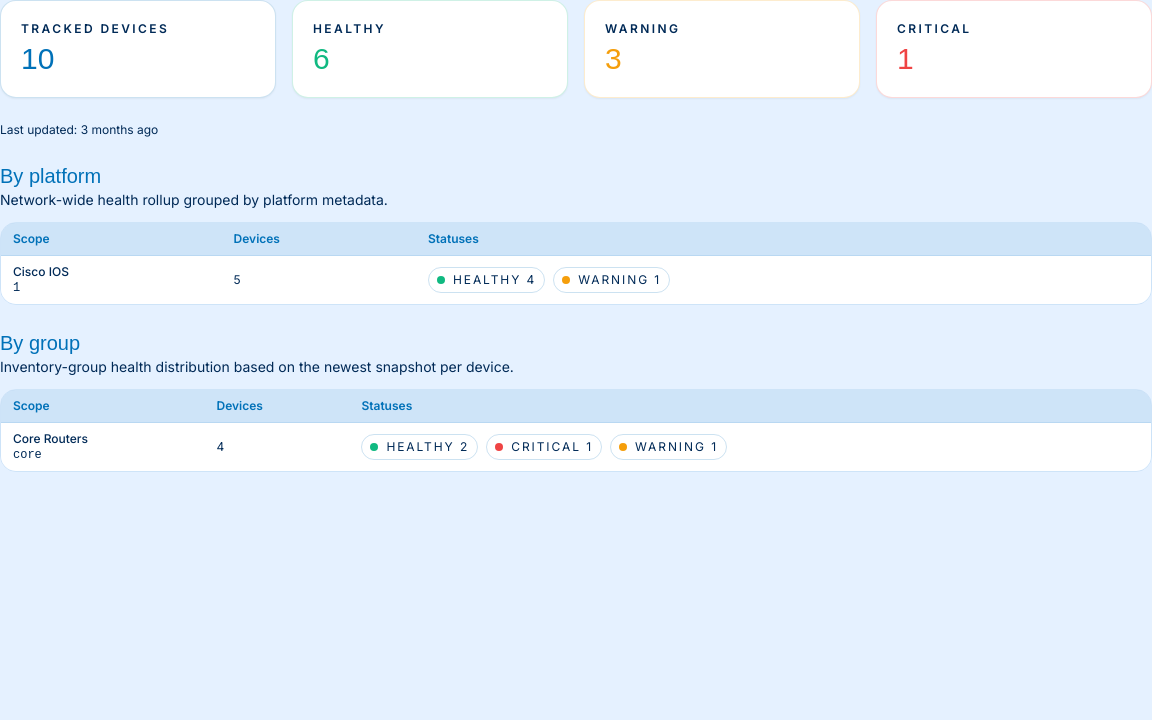
Test: MonitoringHealthPage › drills into a summary card, listing the scopes in that bucket
This screenshot has width=1152, height=720.
Click the button "Warning 3": (643, 28) [584,0,860,98]
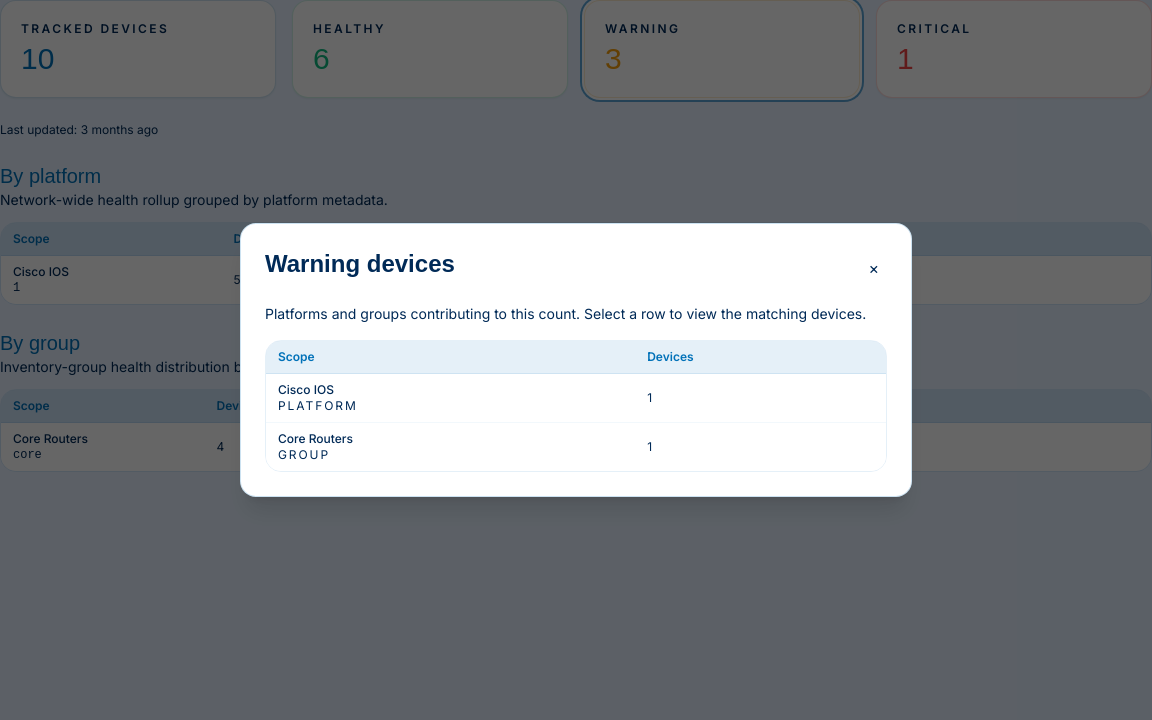
Check: the heading "Warning devices" is shown, box [265,248,455,280]
Check: the text "Cisco IOS" is shown, box [278,382,334,397]
Check: the text "Core Routers" is shown, box [278,431,353,446]
